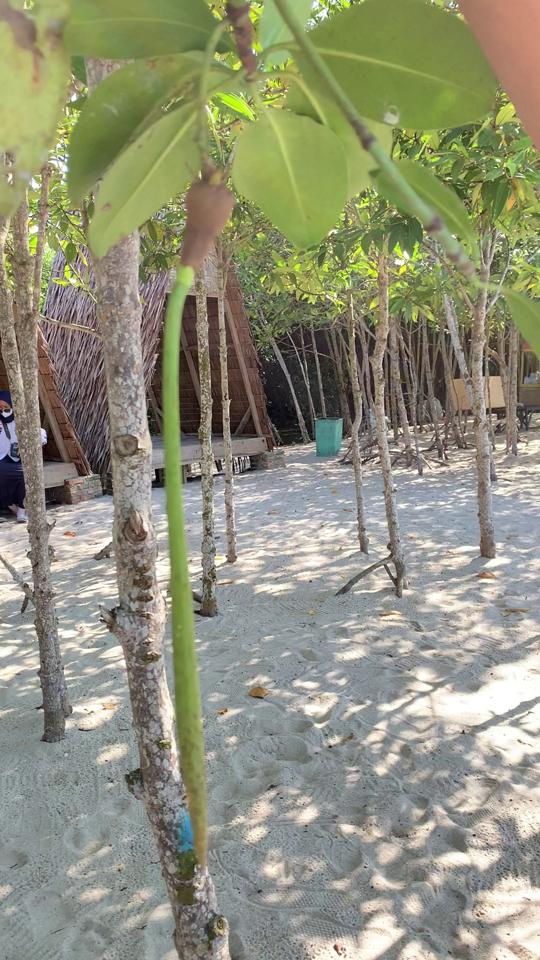setengah matang: (154, 147, 237, 884)
